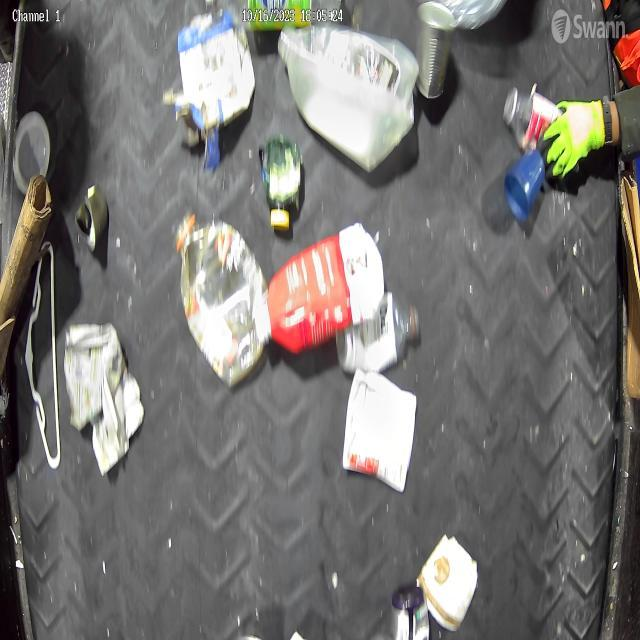can: (415, 0, 453, 99), (73, 187, 109, 252)
milk_jug: (276, 26, 421, 172)
non_white_jug: (256, 224, 364, 358)
